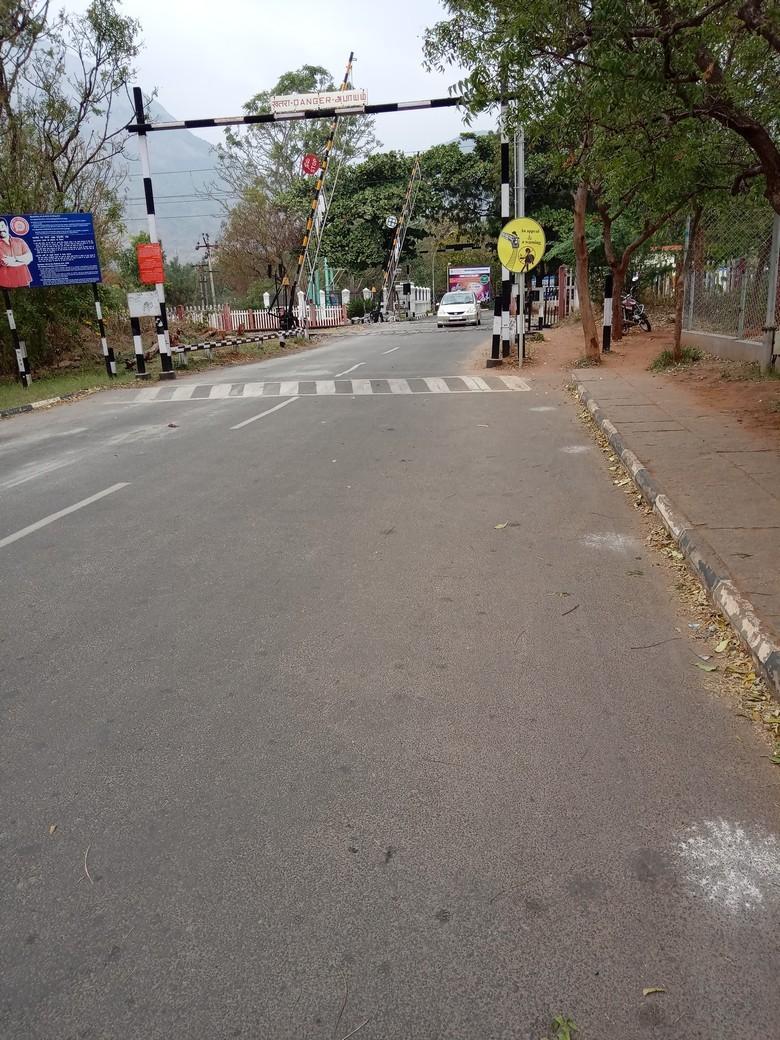bump: (84, 370, 543, 404)
